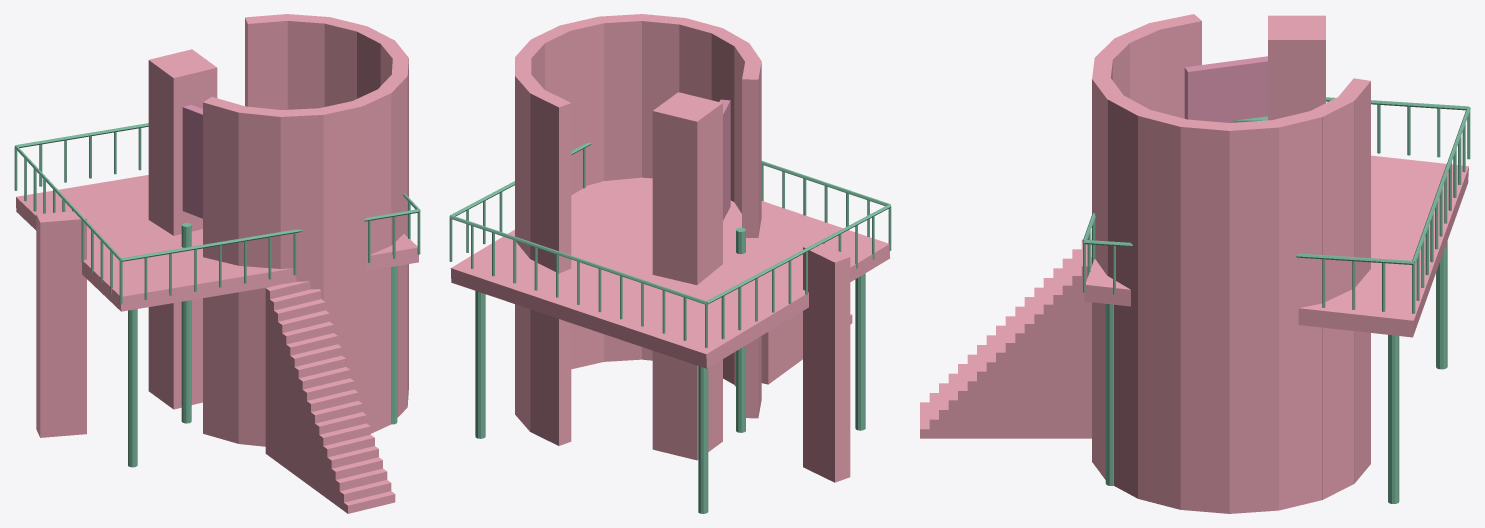
The model's file is folie_tag_040.glb.
3 views of the same model, side by side, from view 1: azimuth 30°, elevation 25°; view 2: azimuth 150°, elevation 25°; view 3: azimuth 270°, elevation 25° (orthographic). The views are drawn at different scales.
Visible parts, largest first — view 1: folie_tag_040_01_curve, folie_tag_040_stairs, folie_tag_040_00_plate, folie_tag_040_core, folie_tag_040_02_fin, folie_tag_040_line, folie_tag_040_03_panel; view 2: folie_tag_040_01_curve, folie_tag_040_00_plate, folie_tag_040_core, folie_tag_040_line, folie_tag_040_02_fin, folie_tag_040_stairs, folie_tag_040_03_panel; view 3: folie_tag_040_01_curve, folie_tag_040_stairs, folie_tag_040_00_plate, folie_tag_040_line, folie_tag_040_core, folie_tag_040_03_panel.
Part boxes in pixels (left/top/right/bottom): folie_tag_040_01_curve: left=203, top=14, right=408, bottom=446; folie_tag_040_stairs: left=265, top=281, right=395, bottom=513; folie_tag_040_00_plate: left=16, top=175, right=418, bottom=311; folie_tag_040_core: left=148, top=49, right=217, bottom=409; folie_tag_040_02_fin: left=36, top=210, right=86, bottom=437; folie_tag_040_line: left=14, top=123, right=420, bottom=467; folie_tag_040_03_panel: left=182, top=104, right=202, bottom=218; folie_tag_040_01_curve: left=515, top=14, right=761, bottom=445; folie_tag_040_00_plate: left=450, top=177, right=890, bottom=368; folie_tag_040_core: left=652, top=92, right=722, bottom=460; folie_tag_040_line: left=449, top=142, right=891, bottom=513; folie_tag_040_02_fin: left=803, top=242, right=850, bottom=482; folie_tag_040_stairs: left=761, top=311, right=852, bottom=384; folie_tag_040_03_panel: left=719, top=99, right=730, bottom=220; folie_tag_040_01_curve: left=1092, top=14, right=1370, bottom=513; folie_tag_040_stairs: left=920, top=230, right=1091, bottom=438; folie_tag_040_00_plate: left=1084, top=155, right=1468, bottom=337; folie_tag_040_line: left=1082, top=97, right=1470, bottom=503; folie_tag_040_core: left=1268, top=15, right=1325, bottom=120; folie_tag_040_03_panel: left=1184, top=56, right=1267, bottom=122.
Size of the model in its own units: 8.43 by 8 by 10.43.
